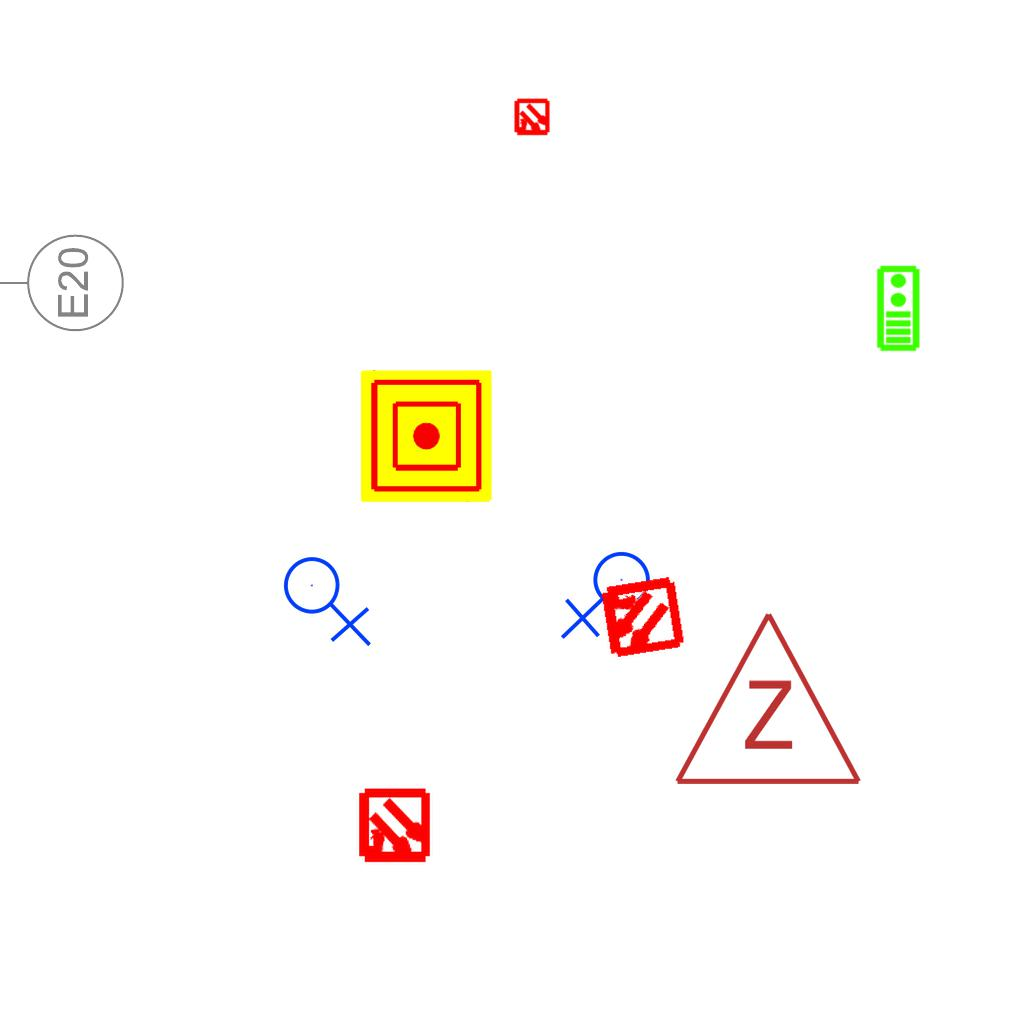Elektroanschluss_allgemein_230V_Geraeteanschlussdose_230V: (560, 550, 659, 644), (282, 548, 376, 647)
Gegensprechanlage_mit_Video: (874, 264, 921, 352)
NAM-Nichtautomatischer_Melder: (360, 370, 492, 502)
OT_Multisensormelder_(Kombination_RMO_WMD): (575, 552, 706, 683), (338, 771, 451, 884), (504, 90, 560, 146)
Zimmersignalleuchte: (668, 599, 864, 799)
